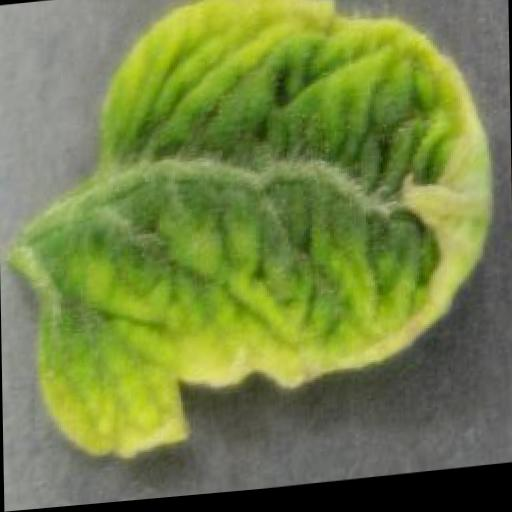Yellow Leaf Curl Virus: (5, 0, 501, 473)
